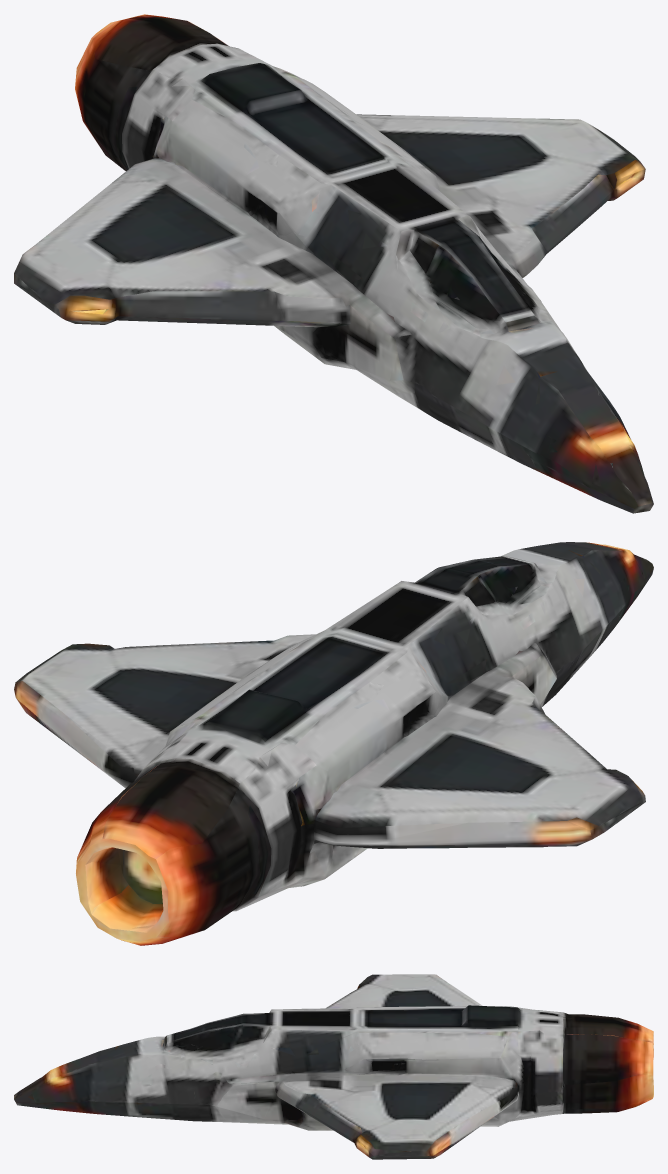
File: enemy-basic-s1.glb
3 renders of one model, top to bottom at view 1: azimuth 30°, elevation 25°; view 2: azimuth 150°, elevation 25°; view 3: azimuth 270°, elevation 25°, orthographic. The views are drawn at different scales.
Parts seen in each view (by area): view 1: 2eeb1933-a6ca-4bd0-a515-30dd85c03f9c_texturing.obj; view 2: 2eeb1933-a6ca-4bd0-a515-30dd85c03f9c_texturing.obj; view 3: 2eeb1933-a6ca-4bd0-a515-30dd85c03f9c_texturing.obj.
Boxes of the visible parts, bbox=[...] form: 2eeb1933-a6ca-4bd0-a515-30dd85c03f9c_texturing.obj: bbox=[14, 14, 653, 513]; 2eeb1933-a6ca-4bd0-a515-30dd85c03f9c_texturing.obj: bbox=[14, 542, 653, 945]; 2eeb1933-a6ca-4bd0-a515-30dd85c03f9c_texturing.obj: bbox=[14, 974, 653, 1159].
Bounding box in the file's own units: 1.3 × 0.3399 × 1.99.
1 material, 1 textured.
